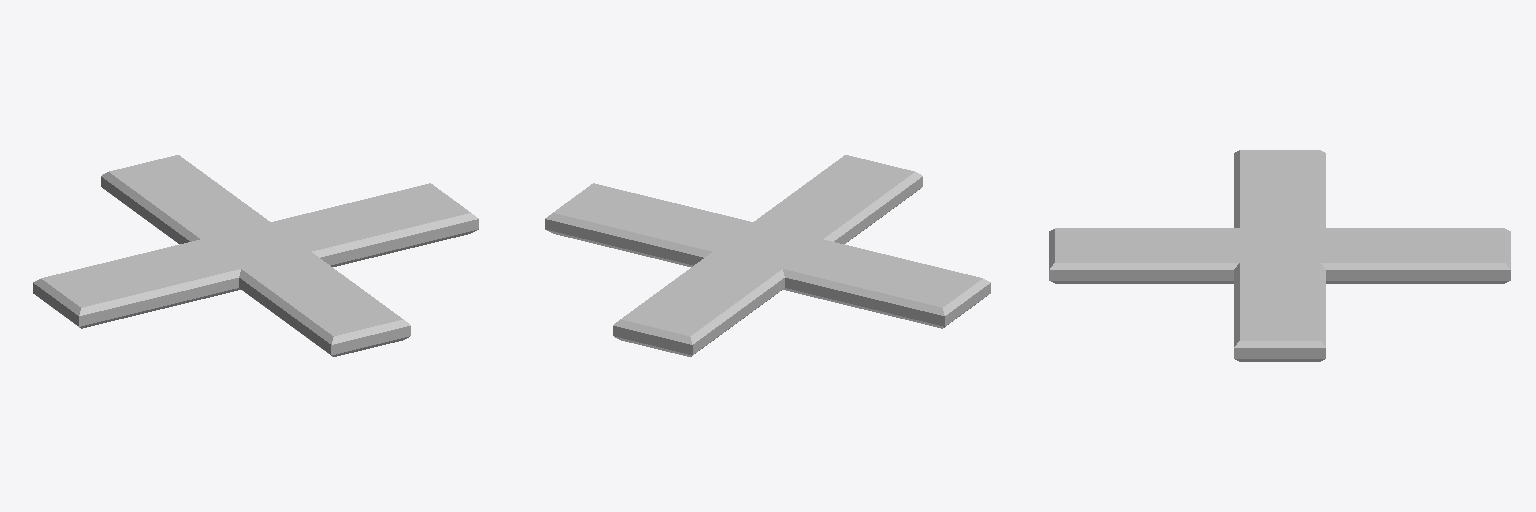
Rendered from PropellerFinish.obj.
3 renders of one model, left to right at view 1: azimuth 30°, elevation 25°; view 2: azimuth 150°, elevation 25°; view 3: azimuth 270°, elevation 25°, orthographic.
Parts seen in each view (by area): view 1: pCube5, pCube4; view 2: pCube5, pCube4; view 3: pCube4, pCube5.
Part boxes in pixels (x1,y1,x2,y2): pCube5: (33,183,478,328); pCube4: (101,155,410,356); pCube5: (545,183,990,328); pCube4: (613,155,922,356); pCube4: (1049,228,1510,283); pCube5: (1234,150,1325,361).
Size of the model in its own units: 1 by 0.05 by 1.